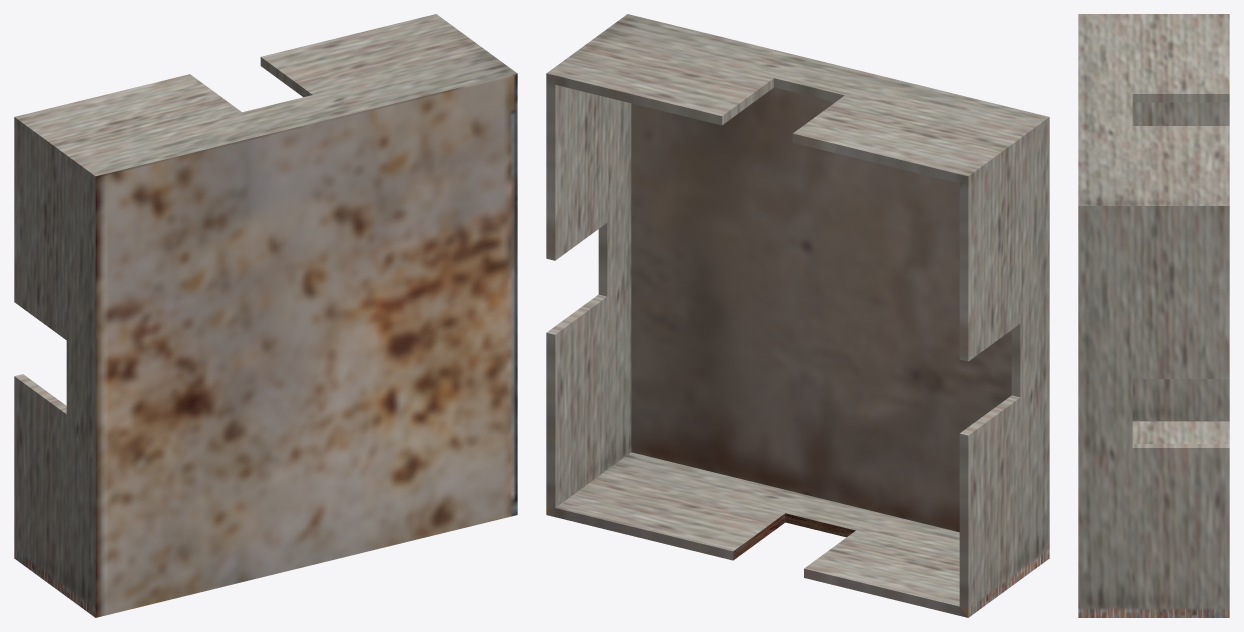
Rendered from 6x6NSEW_white_wtf.obj.
The picture shows the model from 3 angles, left to right: view 1: azimuth 30°, elevation 25°; view 2: azimuth 150°, elevation 25°; view 3: azimuth 270°, elevation 25°; orthographic projection. The views are drawn at different scales.
Parts seen in each view (by area): view 1: group2; view 2: group2; view 3: group2.
Boxes of the visible parts, x1,y1,x2,y2 form: group2: (14,14,517,617); group2: (546,14,1049,617); group2: (1078,14,1229,617).
Bounding box in the file's own units: 660 × 660 × 220.
